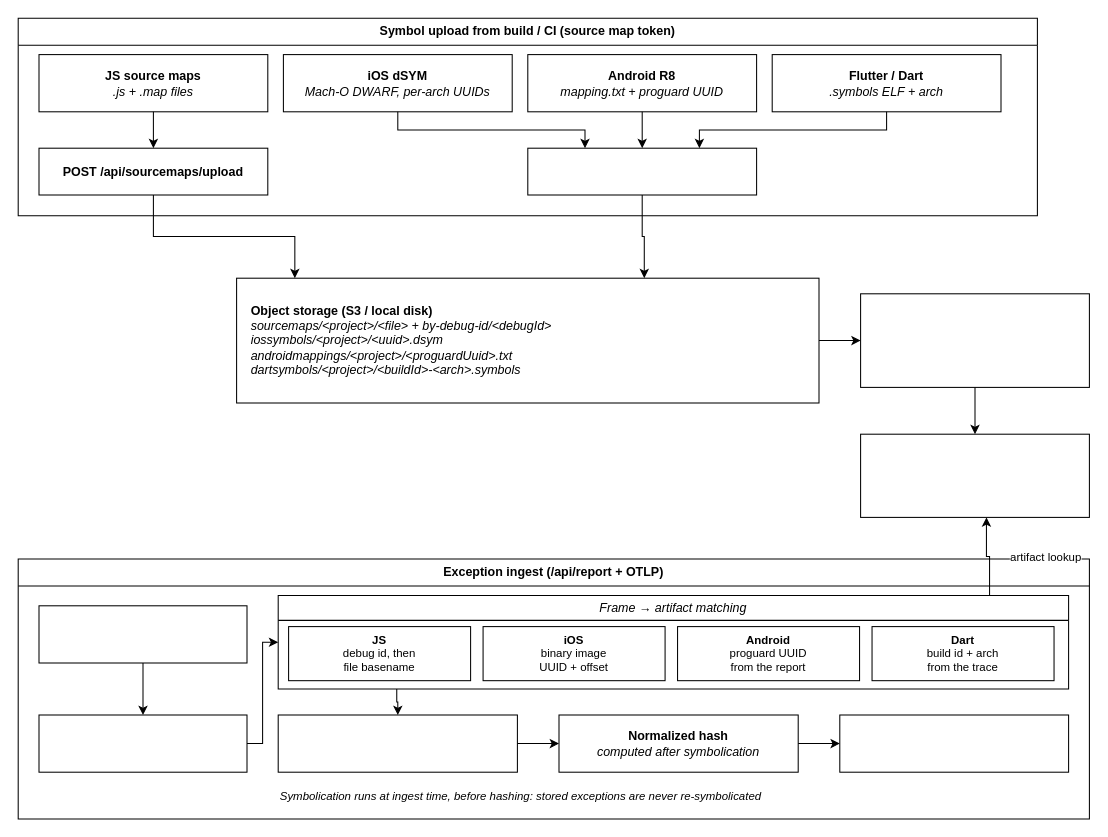
Some shapes in this 1108 by 837 pixel diagram are drawn without their labels. Each missing label, with the centre of its shape:
Exception arrives raw stack trace: pixel 142 634
exception_stack_traces grouped into Issues: pixel 954 743
LRU cache in-memory (default) or mmap disk cache: pixel 974 475
POST /api/symbols/upload: pixel 642 171
Precompiled .tw lookup blobs built on first miss, stored next to the artifact: pixel 974 340
Resolver chosen by project framework: pixel 142 743
Symbolicated stack trace: pixel 397 743
